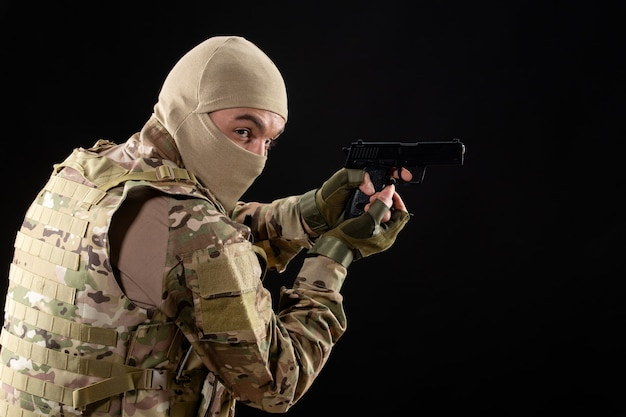gun: (345, 140, 467, 219)
